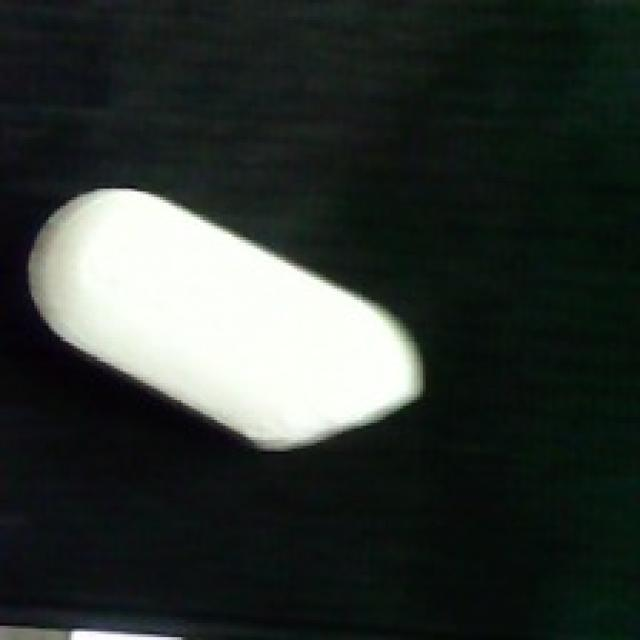defected: (14, 184, 426, 454)
